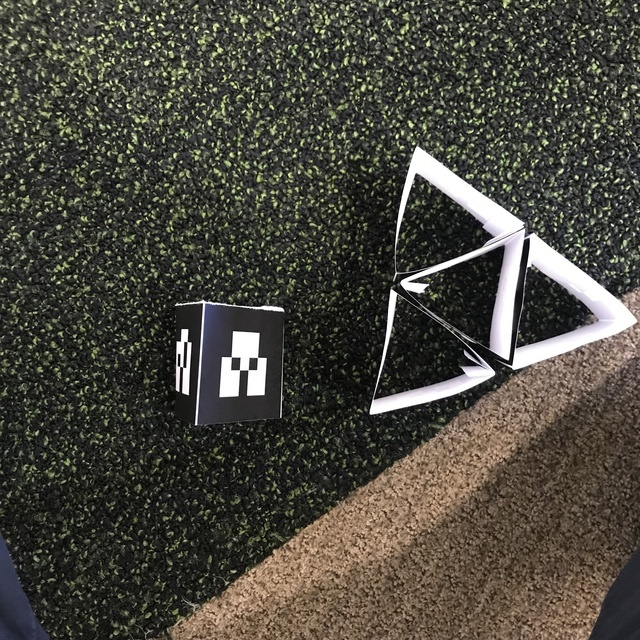ARTag: (173, 300, 286, 423)
